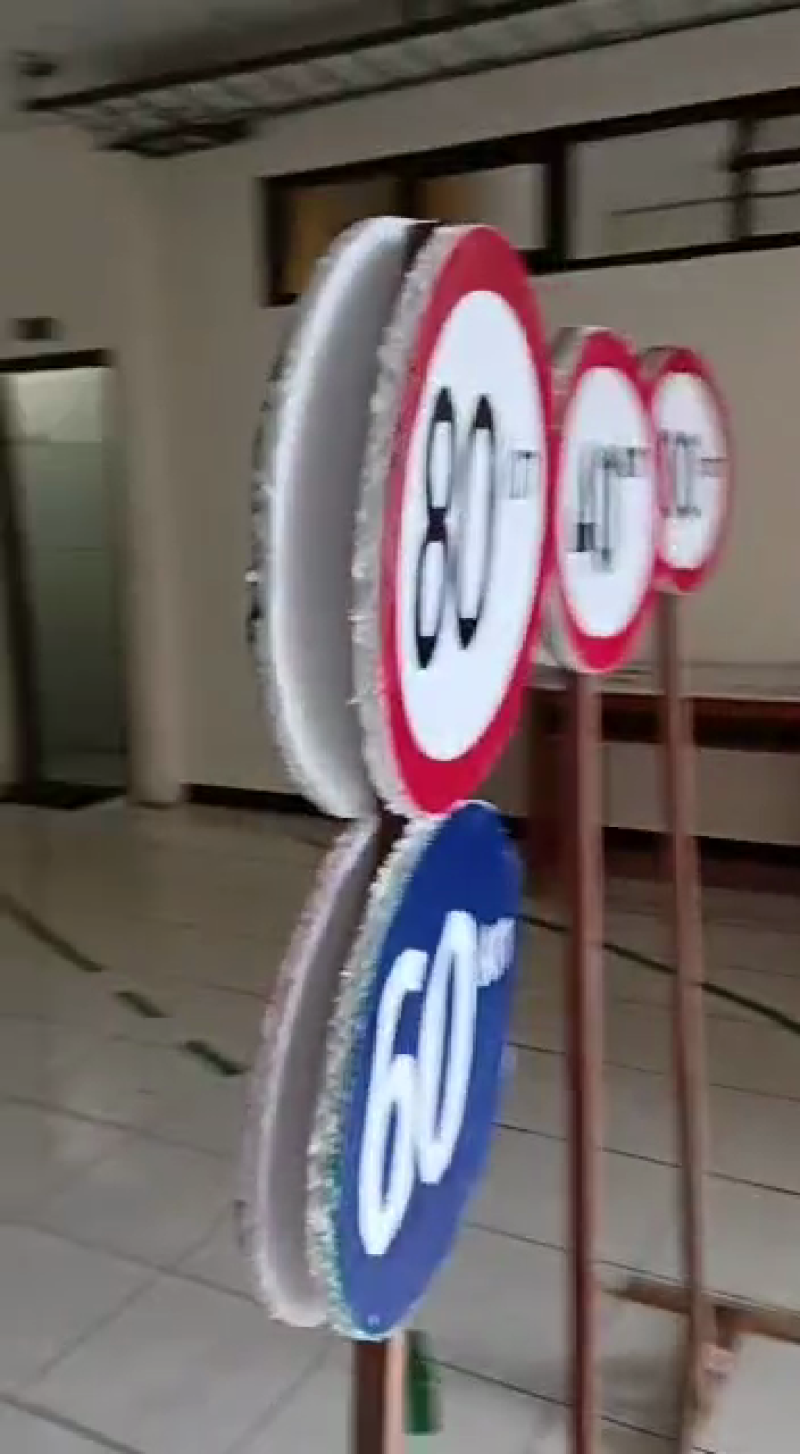batas maksimal 80kmperjam minimal 60kmperjam: (304, 209, 560, 1353)
